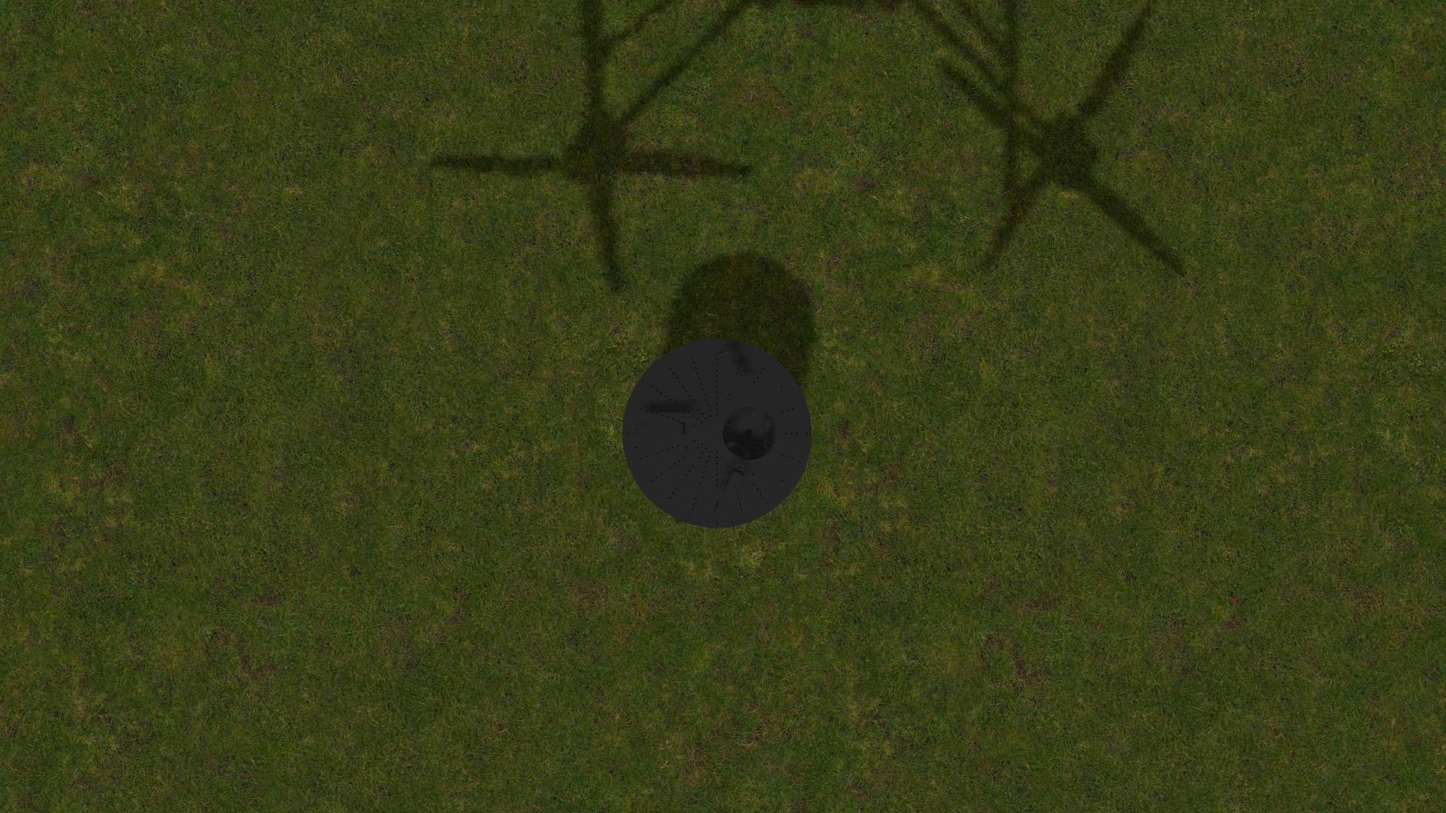alca: (711, 462, 746, 520), (713, 345, 747, 402), (632, 423, 691, 436)
armadilha: (622, 338, 811, 528)
